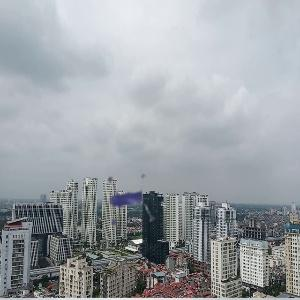drone: (81, 163, 173, 255)
